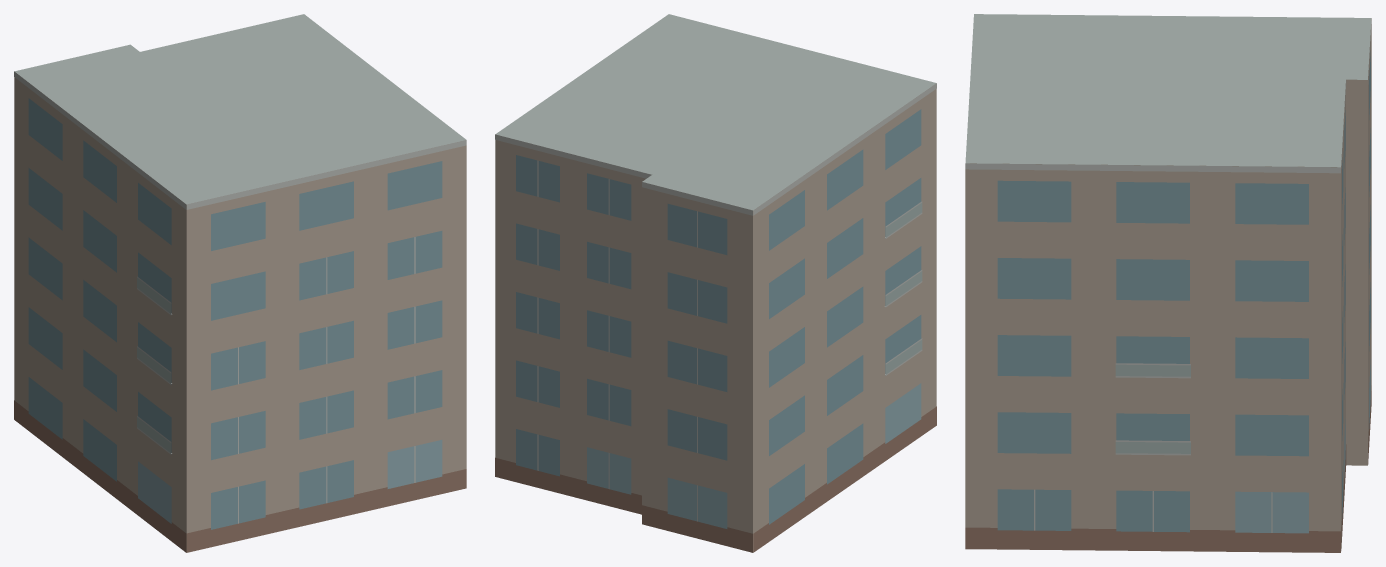
The model's file is survey-upis-32836683.glb.
3 renders of one model, left to right at view 1: azimuth 30°, elevation 25°; view 2: azimuth 150°, elevation 25°; view 3: azimuth 270°, elevation 25°, orthographic. The views are drawn at different scales.
Visible parts, largest first — view 1: survey-upis-32836683.tmp; view 2: survey-upis-32836683.tmp; view 3: survey-upis-32836683.tmp.
Part boxes in pixels (x1,y1,x2,y2): survey-upis-32836683.tmp: [14, 14, 466, 552]; survey-upis-32836683.tmp: [495, 14, 936, 552]; survey-upis-32836683.tmp: [965, 14, 1371, 552].
Bounding box in the file's own units: 13.13 × 15.4 × 14.7.
